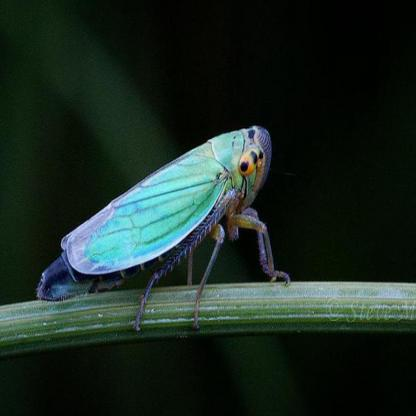Green-Leafhopper: (36, 121, 277, 328)
